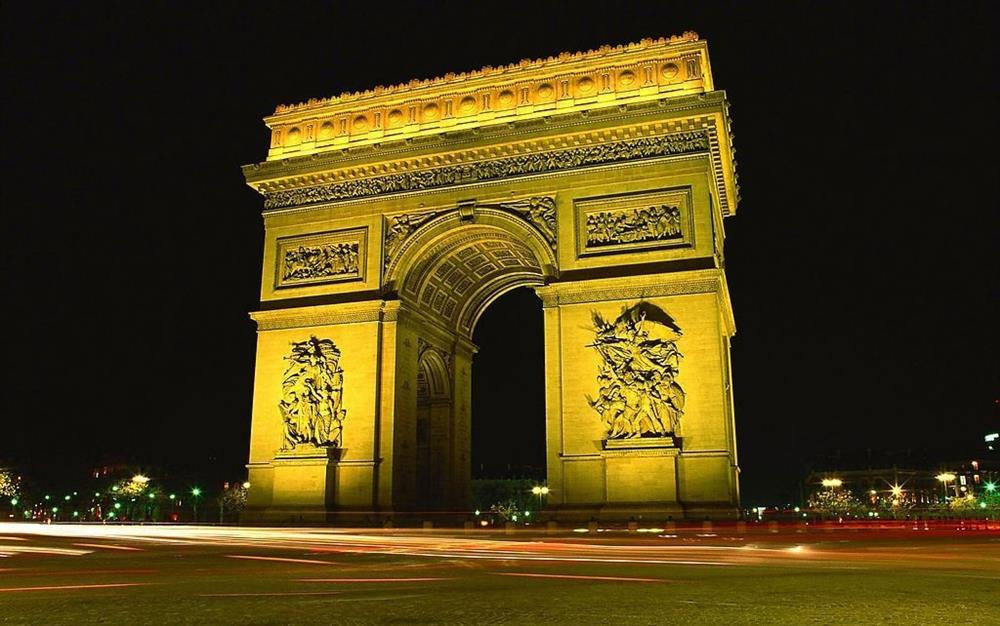Triumphal_Arch: (242, 32, 748, 519)
